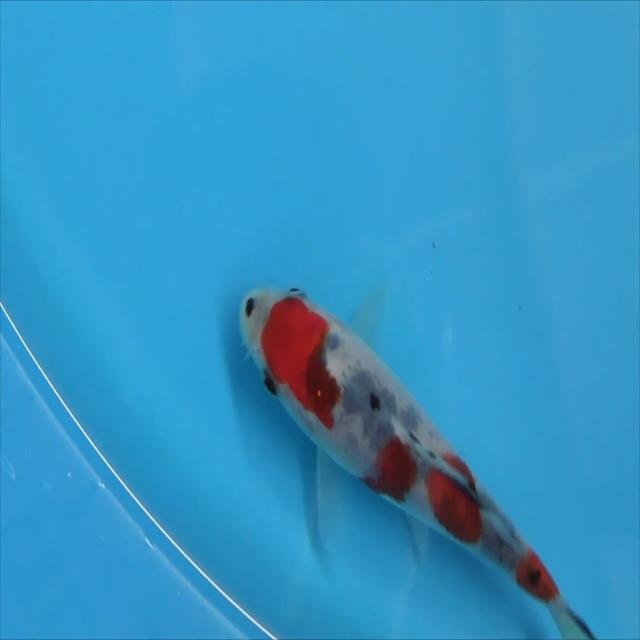Sanke: (239, 283, 596, 638)
